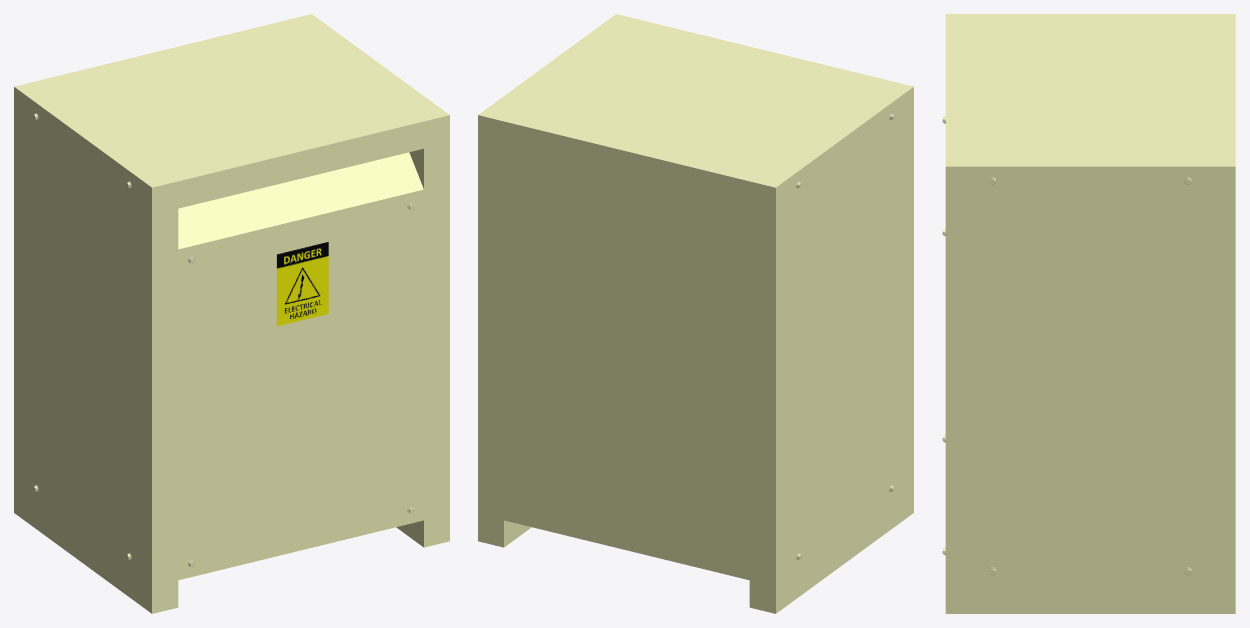
Rendered from GABINETE.fbx.
3 views of the same model, side by side, from view 1: azimuth 30°, elevation 25°; view 2: azimuth 150°, elevation 25°; view 3: azimuth 270°, elevation 25° (orthographic). The views are drawn at different scales.
Visible parts, largest first — view 1: SketchUp_1; view 2: SketchUp_1; view 3: SketchUp_1.
Boxes of the visible parts, x1,y1,x2,y2 form: SketchUp_1: (14, 14, 449, 613); SketchUp_1: (478, 14, 913, 613); SketchUp_1: (942, 14, 1235, 613).
Size of the model in its own units: 23.27 by 31.3 by 18.6.
Materials: 2 (2 with a texture image).
